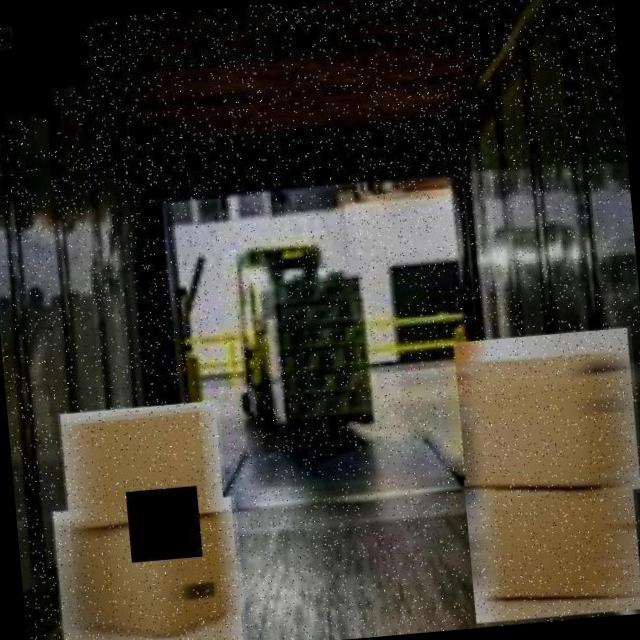box: (450, 325, 640, 507), (50, 494, 248, 640), (463, 464, 640, 627), (57, 399, 229, 539)
